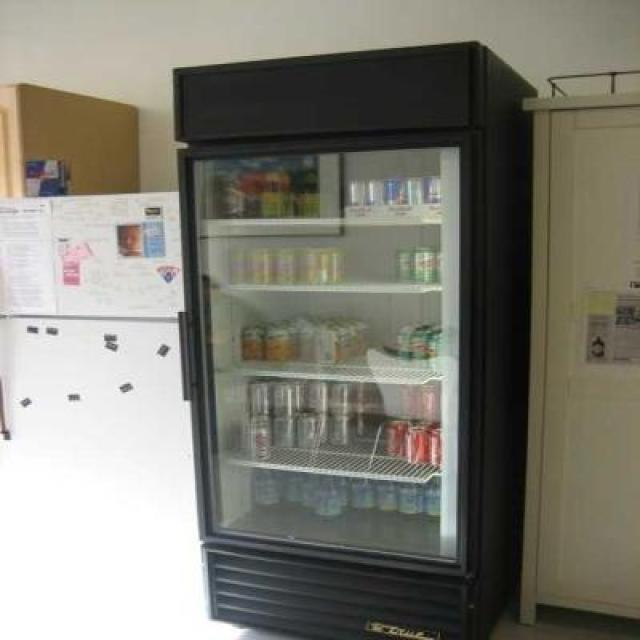refrigerator: (198, 125, 476, 552), (1, 171, 201, 640)
